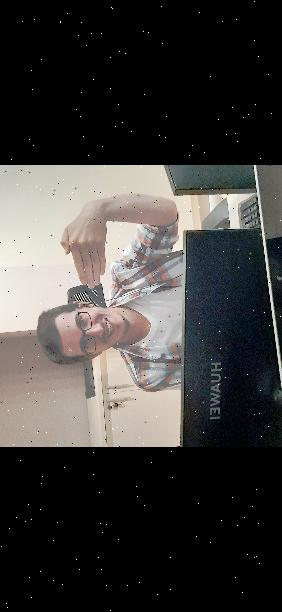Paper: (56, 210, 110, 292)
